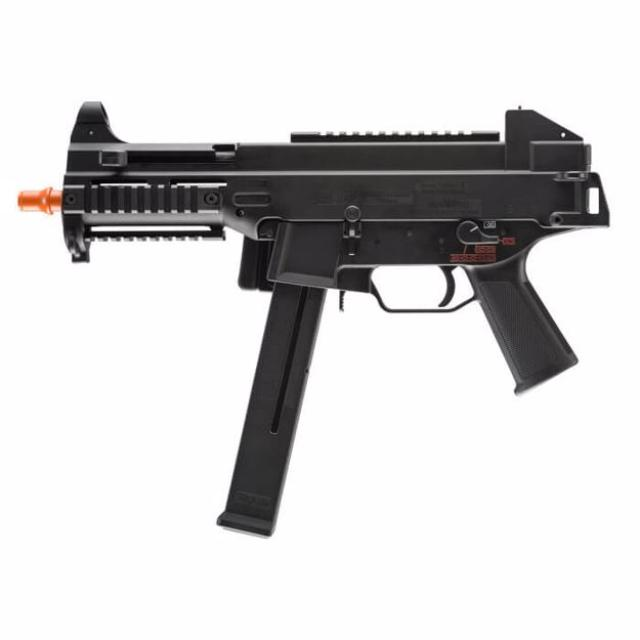SMG: (58, 101, 612, 539)
